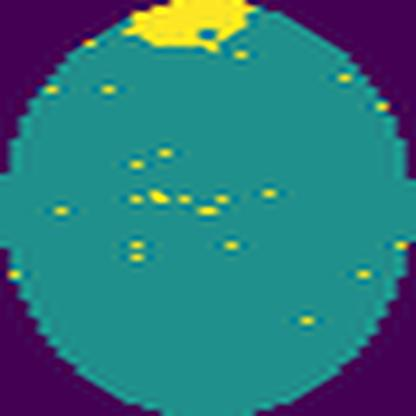Edge-Loc: (119, 0, 259, 53)
